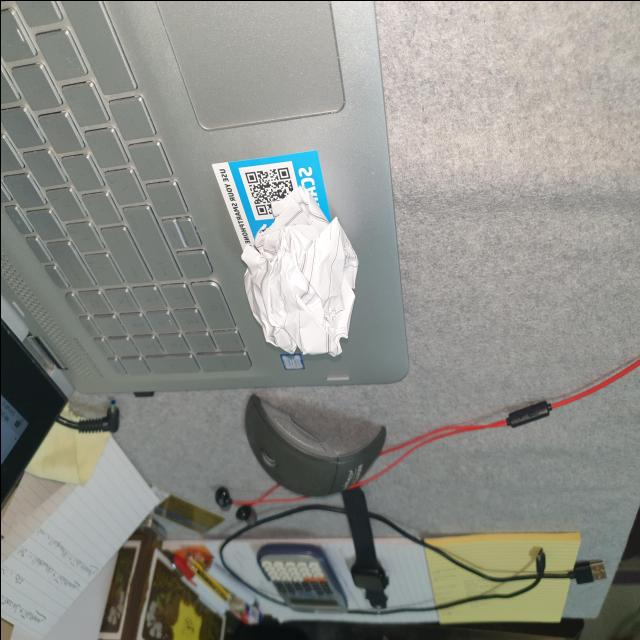kertas: (230, 180, 366, 370)
